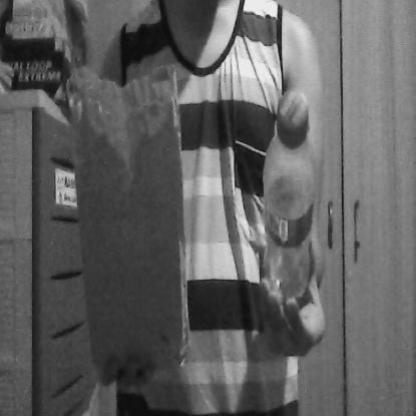Plastic Bottle: (256, 71, 316, 315)
